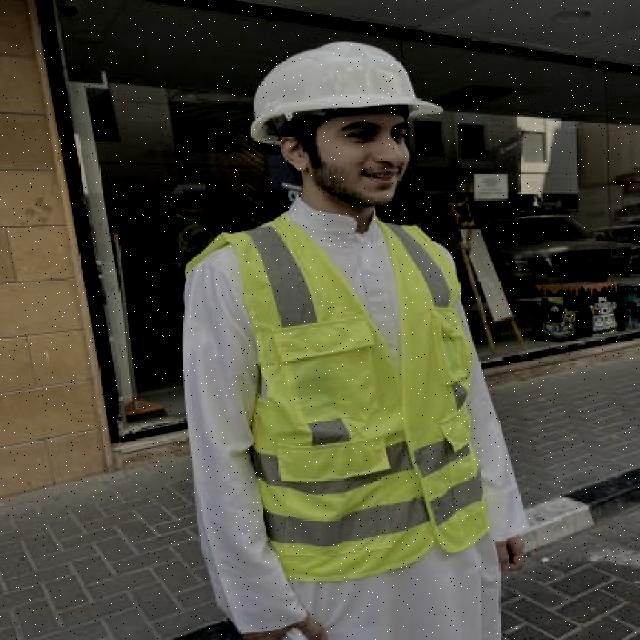Helmet: (244, 36, 436, 130)
Mask: (214, 209, 500, 562)
